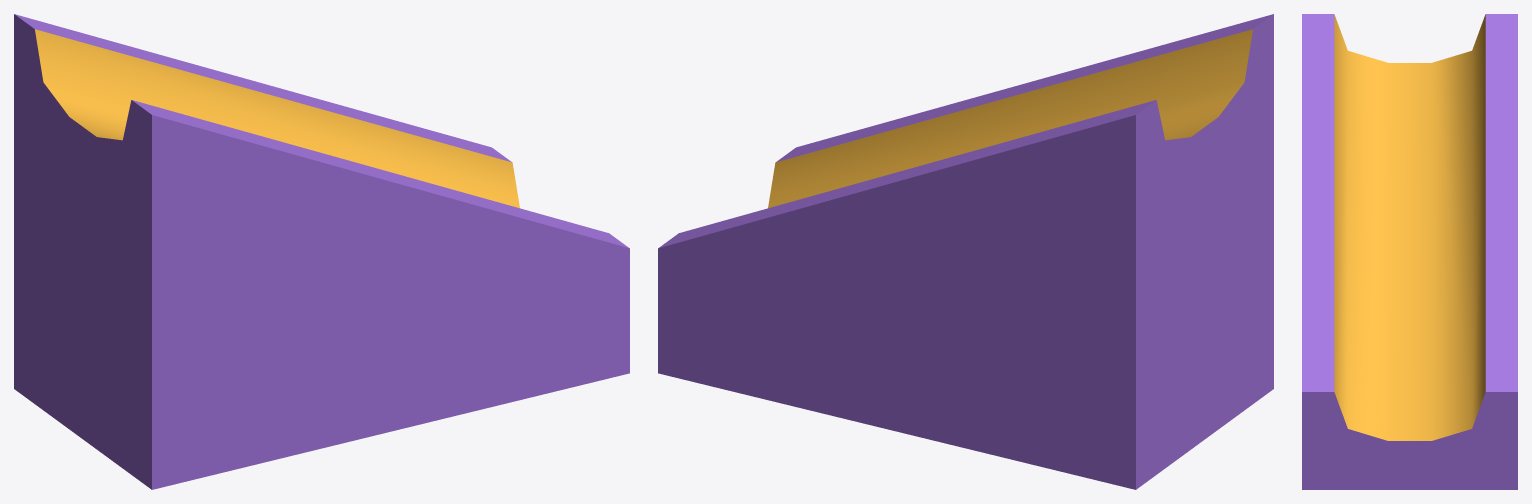
File: slant-solid-long-c-col.glb
3 views of the same model, side by side, from view 1: azimuth 30°, elevation 25°; view 2: azimuth 150°, elevation 25°; view 3: azimuth 270°, elevation 25° (orthographic). The views are drawn at different scales.
Parts seen in each view (by area): view 1: slant-solid-long-c-col; view 2: slant-solid-long-c-col; view 3: slant-solid-long-c-col.
Boxes of the visible parts, x1=… form: slant-solid-long-c-col: x1=14, y1=14, x2=629, y2=489; slant-solid-long-c-col: x1=658, y1=14, x2=1273, y2=489; slant-solid-long-c-col: x1=1302, y1=14, x2=1517, y2=489.
Bounding box in the file's own units: 2 × 1.5 × 1.
Materials: 1 (1 with a texture image).
